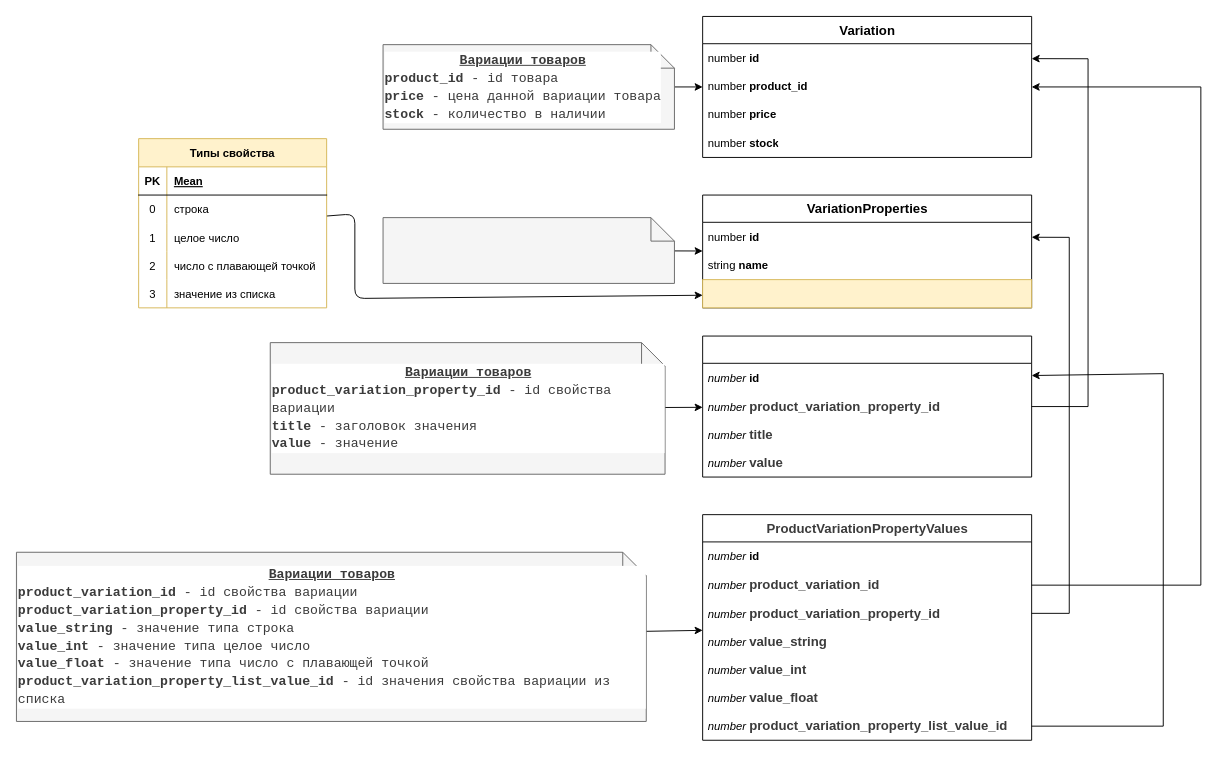
Some shapes in this 1225 by 757 pixel diagram are drawn without their labels. Each missing label, with the box of its shape:
number type: (702, 279, 1032, 308)
VariationPropertyListValues: (702, 335, 1032, 477)
Вариации товаров name - название свойства type - тип свойства:: (382, 217, 674, 283)
